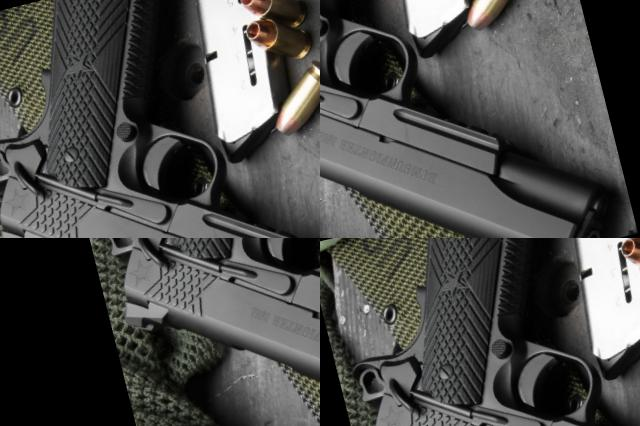handgun: (320, 238, 640, 426), (320, 16, 390, 108), (178, 372, 285, 426), (47, 228, 84, 238)
